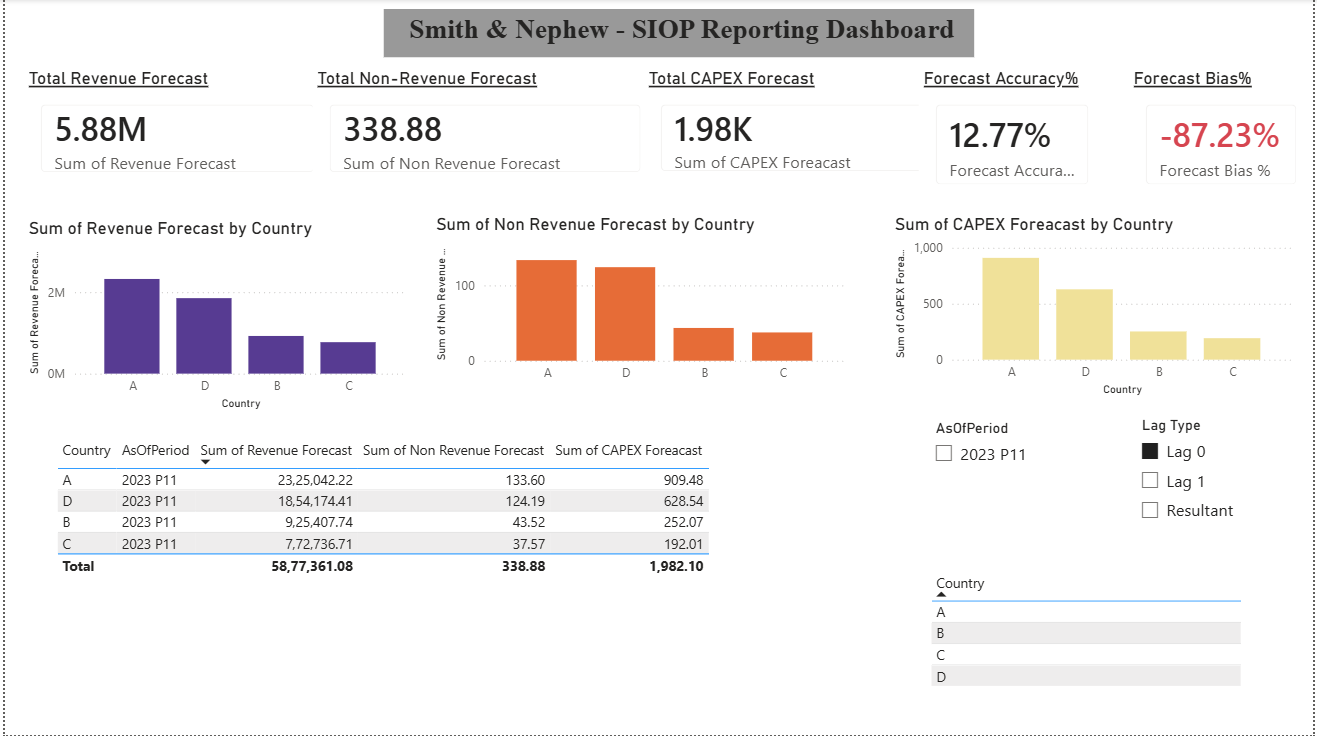

This screenshot's page, from the dashboard's own definition file:
{"tool":"powerbi","page":{"name":"Page 1","canvas":[1280,720],"ordinal":0},"visuals":[{"type":"clusteredColumnChart","fields":{"Category":["Forecast.Country"],"Y":["Sum(Forecast.Revenue Forecast)"]},"box":[18.8,213.8,380,192.5],"z":0},{"type":"clusteredColumnChart","fields":{"Category":["Forecast.Country"],"Y":["Sum(Forecast.Non Revenue Forecast)"]},"box":[417.5,210,411.2,173.8],"z":1000},{"type":"clusteredColumnChart","fields":{"Category":["Forecast.Country"],"Y":["Sum(Forecast.CAPEX Foreacast)"]},"box":[866.2,210,398.8,182.5],"z":2000},{"type":"cardVisual","title":"Total Revenue Forecast","fields":{"Data":["Sum(Forecast.Revenue Forecast)"]},"box":[18.8,67.5,301.2,120],"z":3000},{"type":"cardVisual","title":"Total Non-Revenue Forecast","fields":{"Data":["Sum(Forecast.Non Revenue Forecast)"]},"box":[301.2,67.5,338.8,120],"z":4000},{"type":"cardVisual","title":"Total CAPEX Forecast","fields":{"Data":["Sum(Forecast.CAPEX Foreacast)"]},"box":[625,67.5,352.5,118.8],"z":5000},{"type":"slicer","fields":{"Values":["Forecast.AsOfPeriod"]},"box":[897.5,406.2,168.8,123.8],"z":6000},{"type":"tableEx","fields":{"Values":["Forecast.Country"]},"box":[900,555,325,135],"z":7000},{"type":"tableEx","fields":{"Values":["Forecast.Country","Forecast.AsOfPeriod","Sum(Forecast.Revenue Forecast)","Sum(Forecast.Non Revenue Forecast)","Sum(Forecast.CAPEX Foreacast)"]},"box":[45,425,800,283.8],"z":8000},{"type":"cardVisual","title":"Forecast Accuracy%","fields":{"Data":["Actual.Forecast Accuracy %"]},"box":[893.8,67.5,183.8,131.2],"z":9000},{"type":"cardVisual","title":"Forecast Bias%","fields":{"Data":["Actual.Forecast Bias %"]},"box":[1098.8,67.5,181.2,131.2],"z":10000},{"type":"slicer","fields":{"Values":["Forecast.Lag Type"]},"box":[1098.8,403.8,126.2,130],"z":11000},{"type":"textbox","box":[370,10,577.5,47.5],"z":12000}]}

Visuals, with their boxes in screenshot pixels (x1, y1, x2, y2), scaled from the page's 1280x720 canvas onto the 1317x737 screenshot:
clusteredColumnChart - Forecast.Country x Sum(Forecast.Revenue Forecast): 19,219,410,416
clusteredColumnChart - Forecast.Country x Sum(Forecast.Non Revenue Forecast): 430,215,853,393
clusteredColumnChart - Forecast.Country x Sum(Forecast.CAPEX Foreacast): 891,215,1302,402
"Total Revenue Forecast" cardVisual: 19,69,329,192
"Total Non-Revenue Forecast" cardVisual: 310,69,658,192
"Total CAPEX Forecast" cardVisual: 643,69,1006,191
slicer - Forecast.AsOfPeriod: 923,416,1097,543
tableEx - Forecast.Country: 926,568,1260,706
tableEx - Forecast.Country x Forecast.AsOfPeriod: 46,435,869,726
"Forecast Accuracy%" cardVisual: 920,69,1109,203
"Forecast Bias%" cardVisual: 1131,69,1316,203
slicer - Forecast.Lag Type: 1131,413,1260,546
textbox: 381,10,975,59
